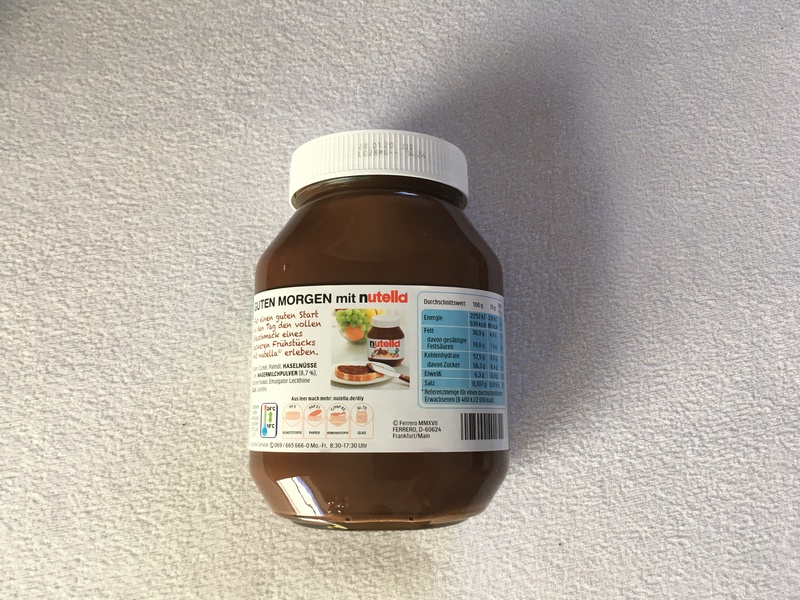nutella: (247, 128, 509, 531)
